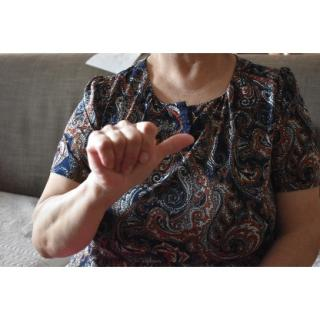DAD: (82, 115, 198, 203)
